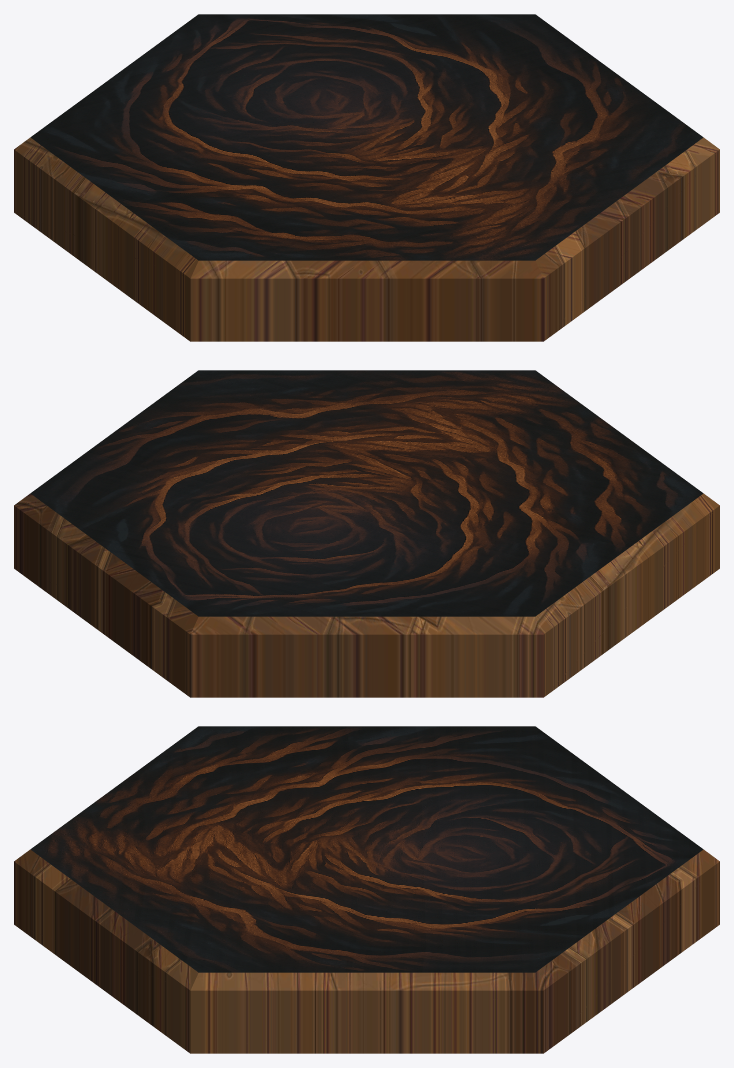
File: twisted-tunnels.glb
The picture shows the model from 3 angles, top to bottom: view 1: azimuth 30°, elevation 25°; view 2: azimuth 150°, elevation 25°; view 3: azimuth 270°, elevation 25°; orthographic projection.
Parts seen in each view (by area): view 1: Circle; view 2: Circle; view 3: Circle.
Boxes of the visible parts, left/top/right/bottom form: Circle: left=14, top=14, right=719, bottom=341; Circle: left=14, top=370, right=719, bottom=697; Circle: left=14, top=726, right=719, bottom=1053.
Size of the model in its own units: 1.73 by 0.235 by 2.
Materials: 2 (2 with a texture image).
